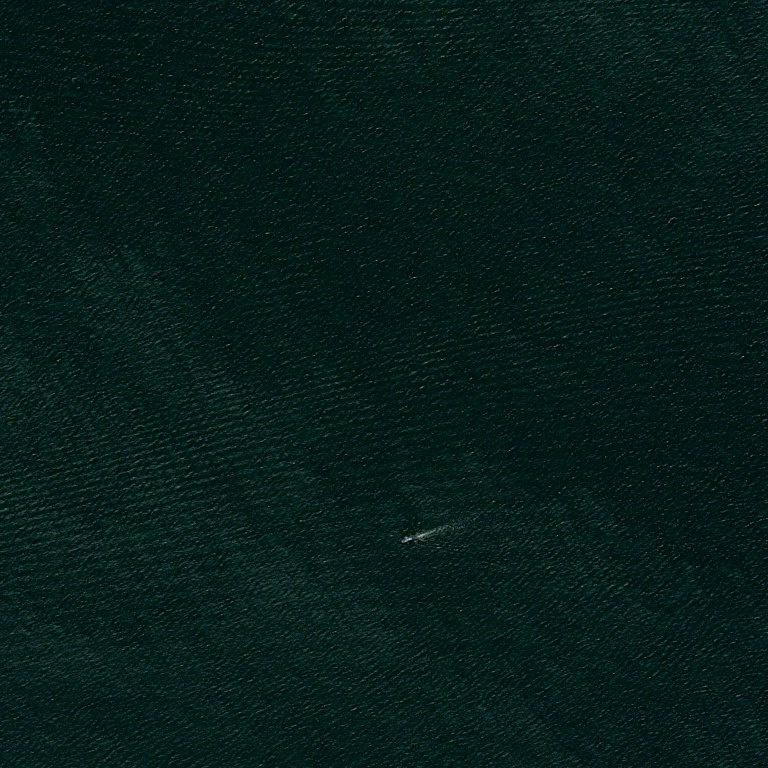ship: (398, 536, 417, 544), (401, 541, 403, 543), (413, 537, 414, 539), (389, 534, 389, 536)
